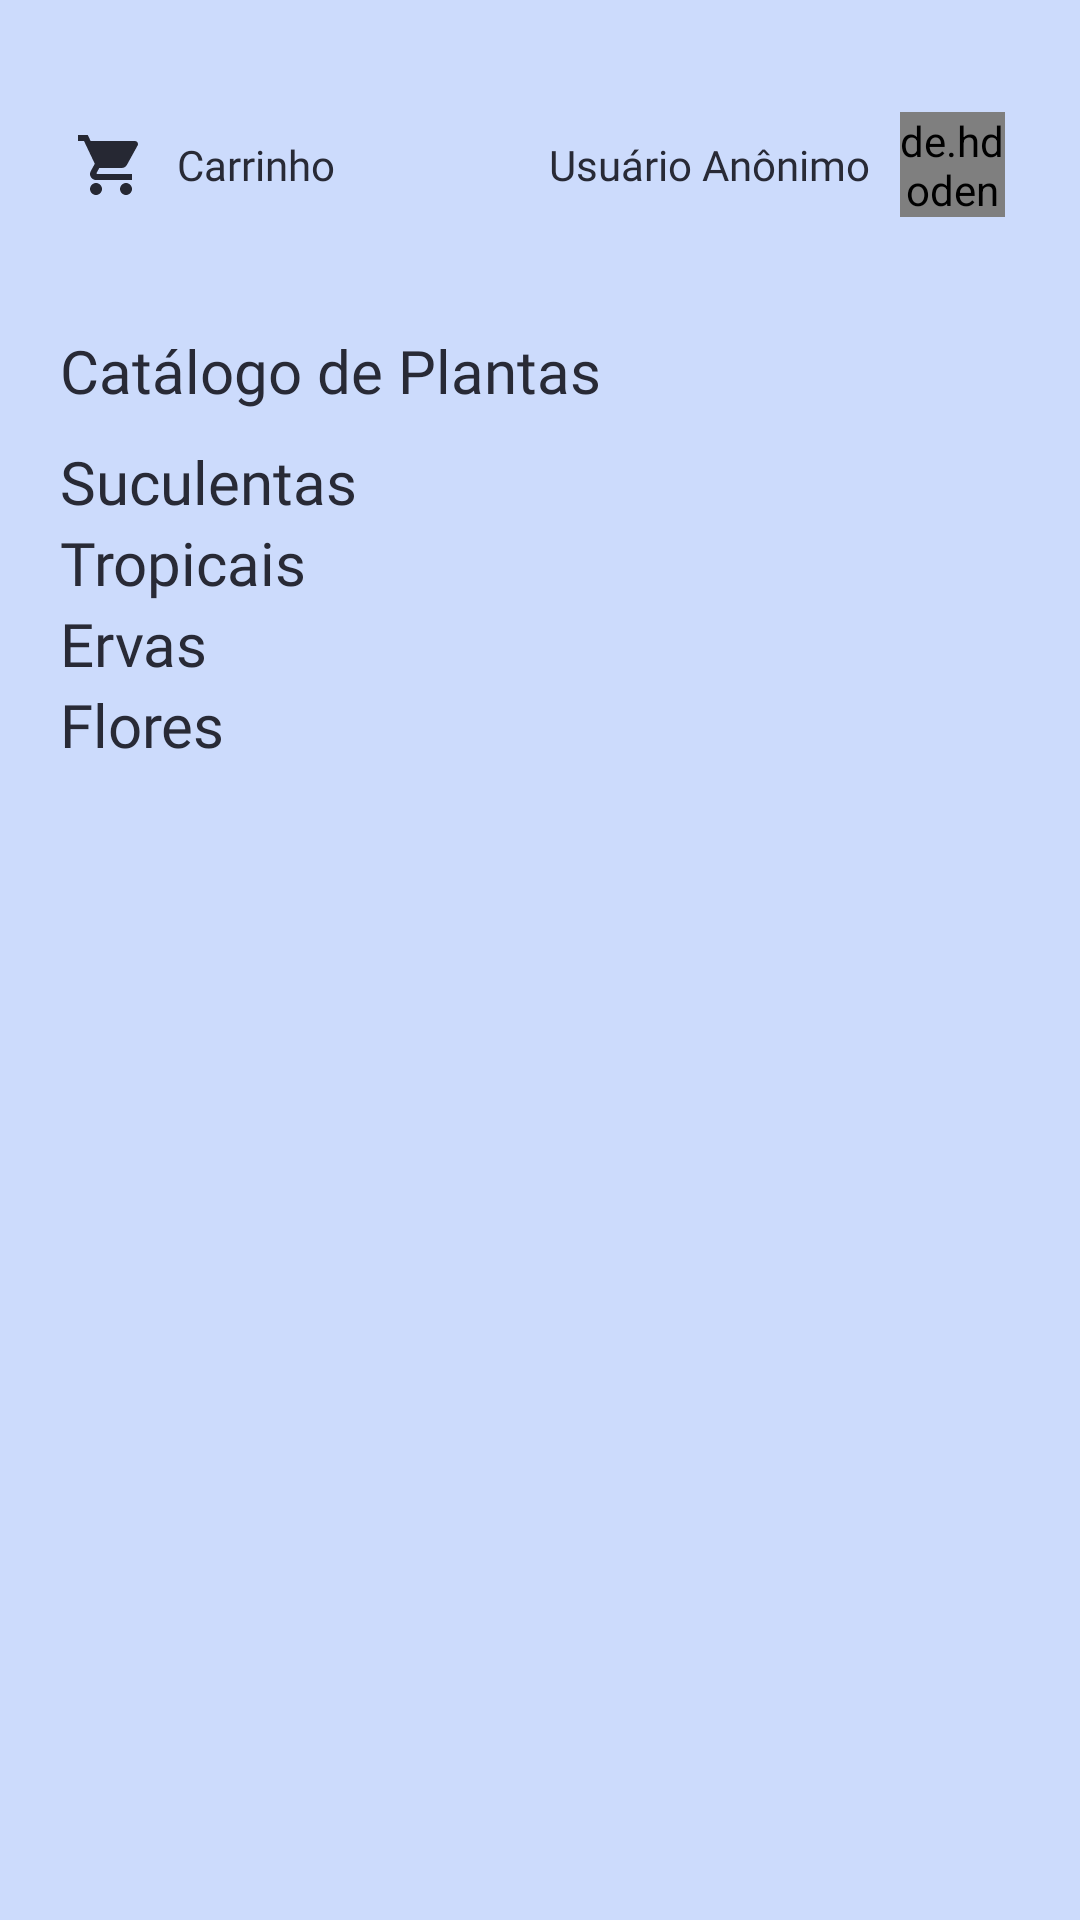

Icon click points for this 1080px x 1920px phone screenshot, format (x,y):
shopping cart: (108,165)
